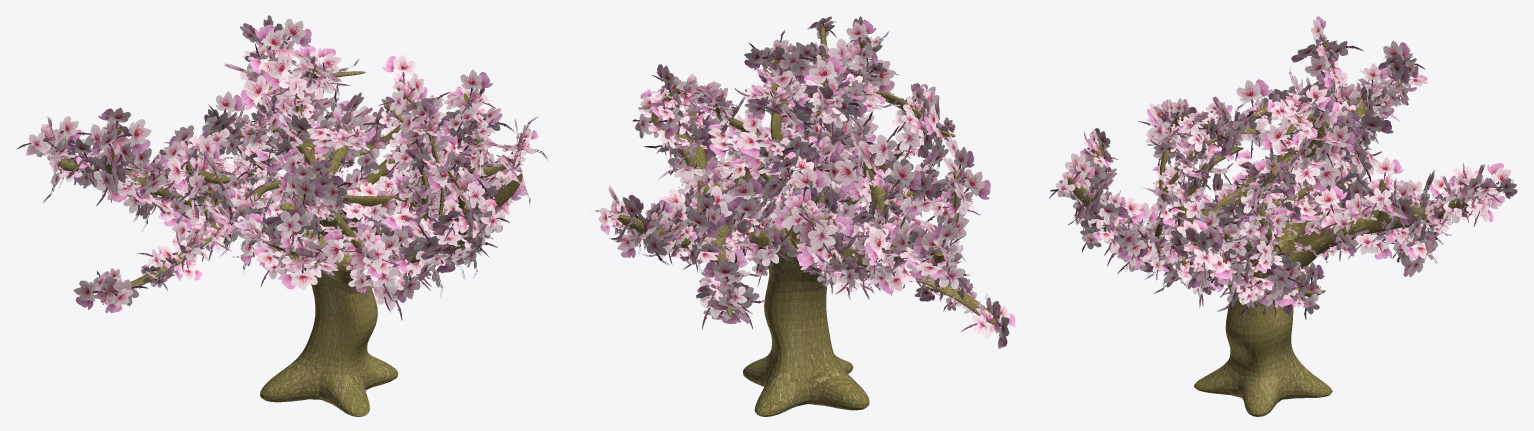
File: arbol.fbx
3 views of the same model, side by side, from view 1: azimuth 30°, elevation 25°; view 2: azimuth 150°, elevation 25°; view 3: azimuth 270°, elevation 25° (orthographic). The views are drawn at different scales.
Parts seen in each view (by area): view 1: arbol, arbol|flor|Dupli|188, arbol|flor|Dupli|627, arbol|flor|Dupli|431, arbol|flor|Dupli|595, arbol|flor|Dupli|97, arbol|flor|Dupli|648, arbol|flor|Dupli|529, arbol|flor|Dupli|917, arbol|flor|Dupli|912, arbol|flor|Dupli|771, arbol|flor|Dupli|99 (+31 smaller); view 2: arbol, arbol|flor|Dupli|890, arbol|flor|Dupli|761, arbol|flor|Dupli|746, arbol|flor|Dupli|790, arbol|flor|Dupli|305, arbol|flor|Dupli|843, arbol|flor|Dupli|943, arbol|flor|Dupli|619, arbol|flor|Dupli|643, arbol|flor|Dupli|613, arbol|flor|Dupli|83 (+43 smaller); view 3: arbol, arbol|flor|Dupli|519, arbol|flor|Dupli|959, arbol|flor|Dupli|725, arbol|flor|Dupli|221, arbol|flor|Dupli|424, arbol|flor|Dupli|114, arbol|flor|Dupli|282, arbol|flor|Dupli|428, arbol|flor|Dupli|167, arbol|flor|Dupli|437, arbol|flor|Dupli|728 (+20 smaller).
Boxes of the visible parts, bbox=[...] form: arbol: bbox=[43, 43, 522, 416]; arbol|flor|Dupli|188: bbox=[321, 227, 399, 271]; arbol|flor|Dupli|627: bbox=[76, 119, 151, 156]; arbol|flor|Dupli|431: bbox=[452, 70, 492, 131]; arbol|flor|Dupli|595: bbox=[73, 276, 148, 309]; arbol|flor|Dupli|97: bbox=[428, 162, 498, 208]; arbol|flor|Dupli|648: bbox=[17, 116, 81, 157]; arbol|flor|Dupli|529: bbox=[276, 172, 305, 248]; arbol|flor|Dupli|917: bbox=[273, 47, 341, 95]; arbol|flor|Dupli|912: bbox=[264, 53, 349, 99]; arbol|flor|Dupli|771: bbox=[289, 175, 326, 238]; arbol|flor|Dupli|99: bbox=[471, 170, 528, 240]; arbol: bbox=[617, 24, 996, 416]; arbol|flor|Dupli|890: bbox=[834, 125, 899, 192]; arbol|flor|Dupli|761: bbox=[783, 189, 838, 261]; arbol|flor|Dupli|746: bbox=[782, 166, 827, 241]; arbol|flor|Dupli|790: bbox=[808, 56, 847, 142]; arbol|flor|Dupli|305: bbox=[622, 195, 669, 265]; arbol|flor|Dupli|843: bbox=[744, 47, 815, 72]; arbol|flor|Dupli|943: bbox=[865, 161, 921, 216]; arbol|flor|Dupli|619: bbox=[925, 169, 990, 223]; arbol|flor|Dupli|643: bbox=[911, 231, 972, 295]; arbol|flor|Dupli|613: bbox=[865, 228, 930, 284]; arbol|flor|Dupli|83: bbox=[846, 20, 876, 75]; arbol: bbox=[1068, 41, 1486, 416]; arbol|flor|Dupli|519: bbox=[1367, 157, 1403, 219]; arbol|flor|Dupli|959: bbox=[1236, 79, 1272, 158]; arbol|flor|Dupli|725: bbox=[1258, 85, 1330, 124]; arbol|flor|Dupli|221: bbox=[1200, 210, 1256, 258]; arbol|flor|Dupli|424: bbox=[1177, 219, 1218, 281]; arbol|flor|Dupli|114: bbox=[1049, 160, 1095, 198]; arbol|flor|Dupli|282: bbox=[1315, 185, 1347, 260]; arbol|flor|Dupli|428: bbox=[1170, 227, 1211, 258]; arbol|flor|Dupli|167: bbox=[1162, 161, 1204, 219]; arbol|flor|Dupli|437: bbox=[1231, 208, 1288, 240]; arbol|flor|Dupli|728: bbox=[1274, 129, 1320, 199].
Size of the model in its own units: 1885 by 1391 by 1962.
